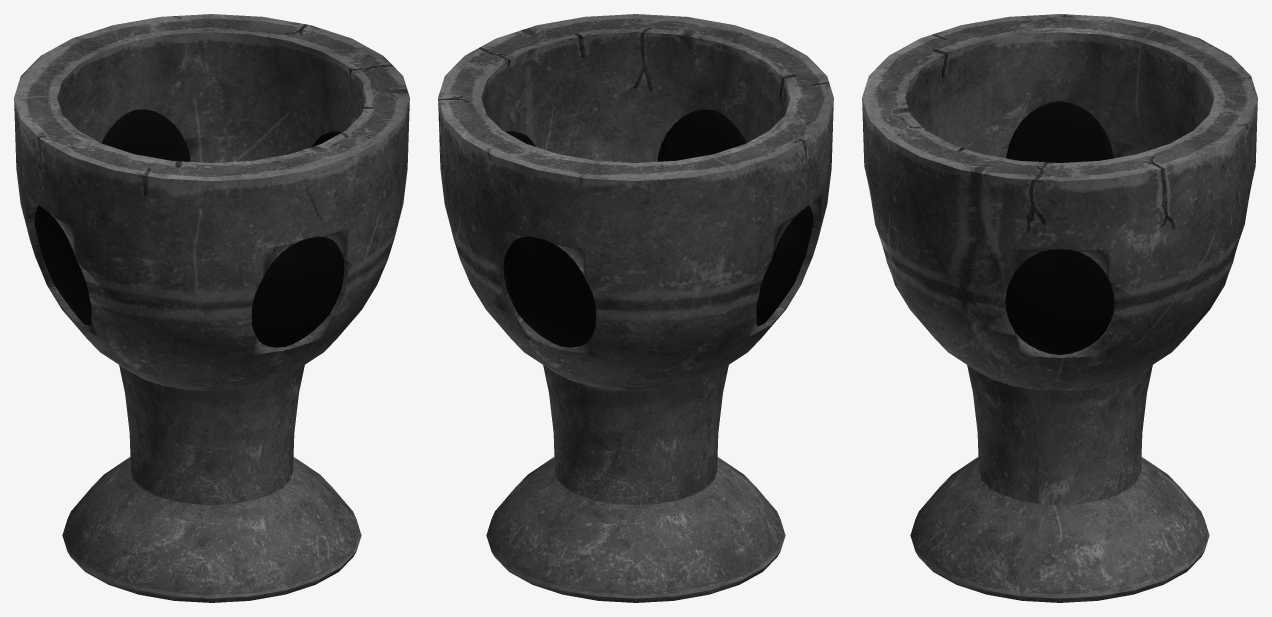
File: Caliz.fbx
The picture shows the model from 3 angles, left to right: view 1: azimuth 30°, elevation 25°; view 2: azimuth 150°, elevation 25°; view 3: azimuth 270°, elevation 25°; orthographic projection.
Parts seen in each view (by area): view 1: Cup_with_holes, Holes; view 2: Cup_with_holes, Holes; view 3: Cup_with_holes, Holes.
Part boxes in pixels (<box>): Cup_with_holes: <box>14,14,409,602</box>; Holes: <box>34,109,344,347</box>; Cup_with_holes: <box>438,14,833,602</box>; Holes: <box>503,109,813,347</box>; Cup_with_holes: <box>862,14,1257,602</box>; Holes: <box>1005,101,1114,354</box>.
Size of the model in its own units: 200 by 200 by 249.
2 materials, 1 textured.
